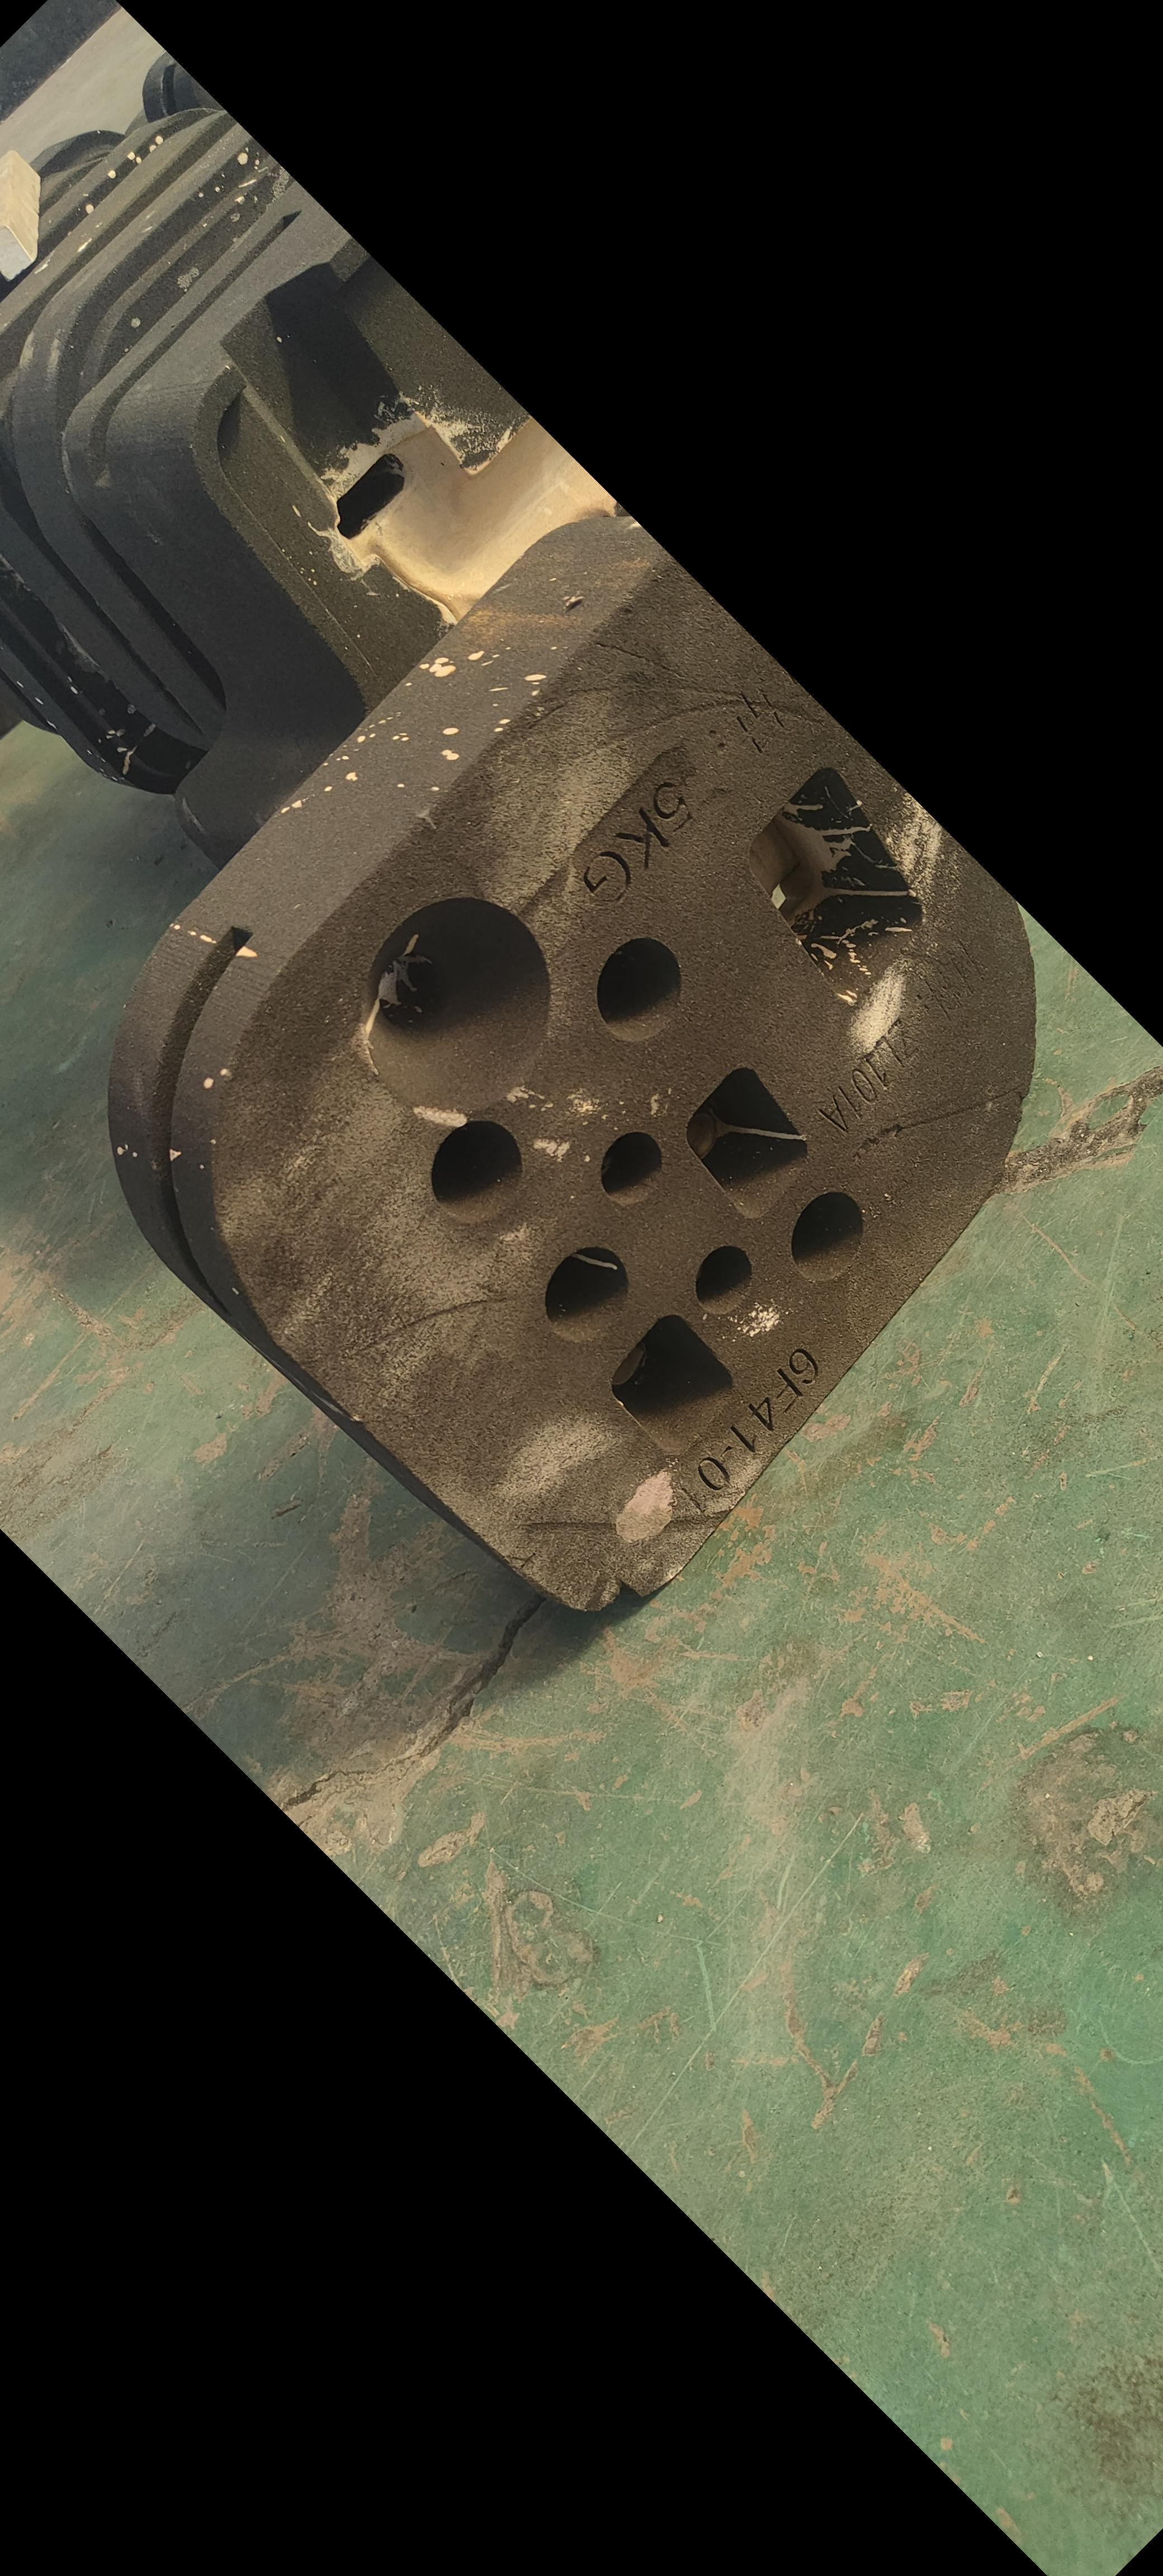pouring hole: (363, 895, 550, 1115)
